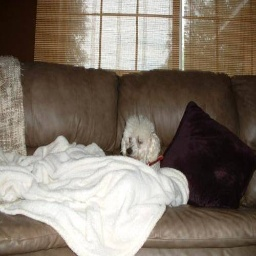dog: (111, 114, 168, 177)
